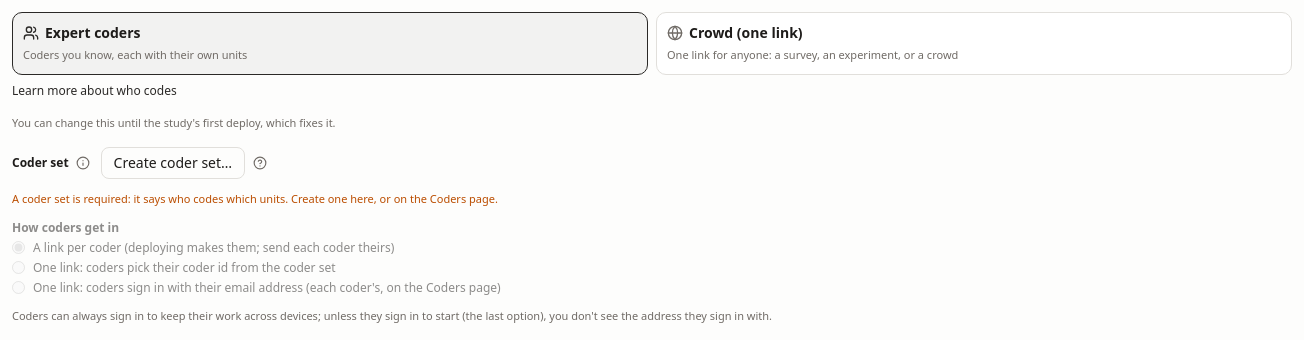
it: the invitation form › switching to a crowd while the study has expert coders: says they aren't used, and can delete them
Later steps or results of the test are not shown.
Expected: the text "aren't used by this design" is not shown
Click the radio button labelled "Crowd" at [746, 32], box [656,12,1292,74]
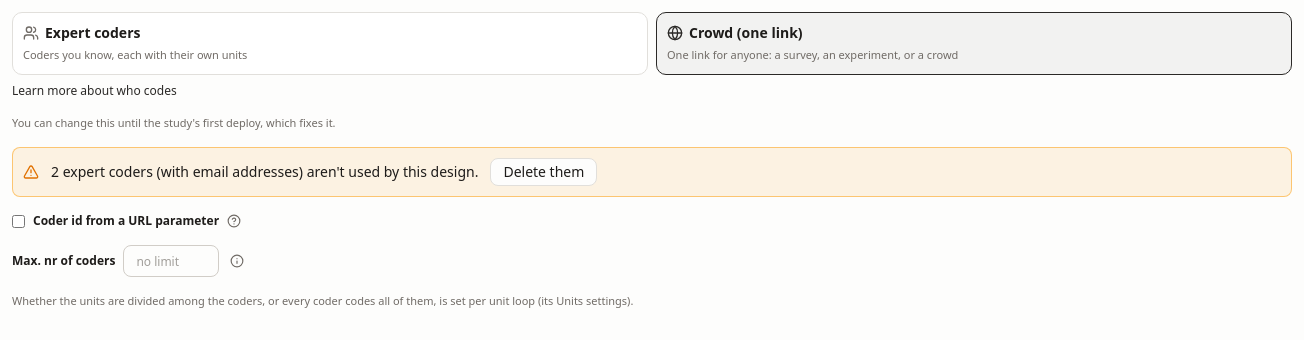
Result: the text "2 expert coders (with email addresses) aren't used by this design." is shown at [51,162,478,182]
